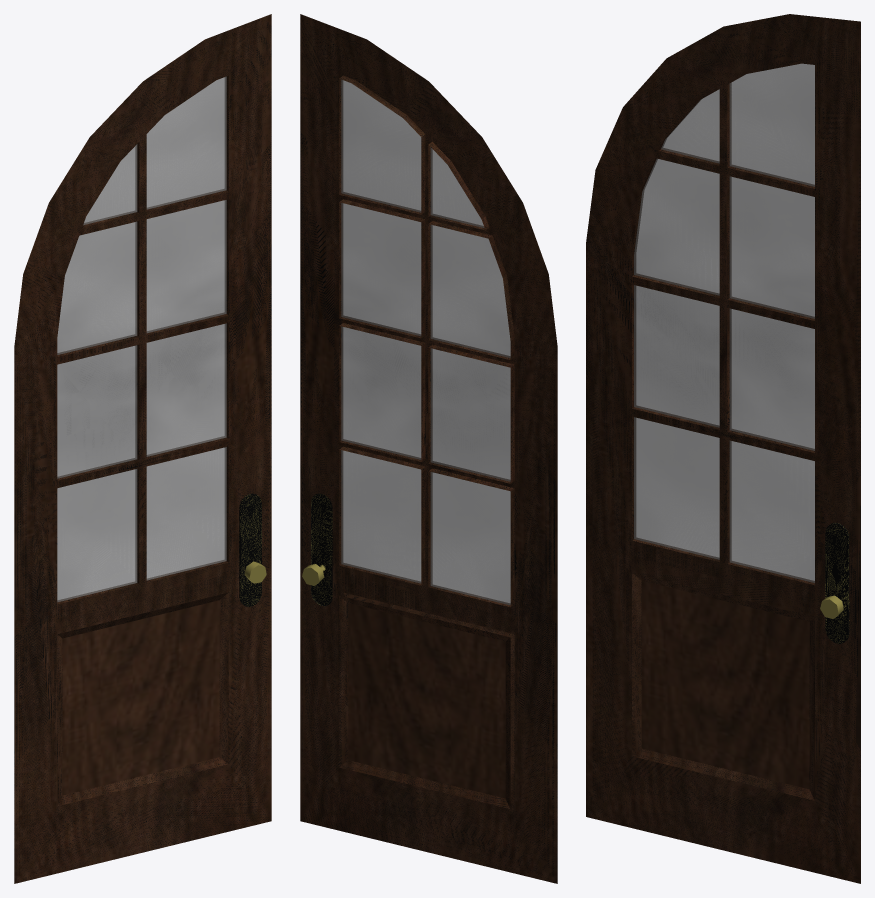
File: door left.fbx
3 views of the same model, side by side, from view 1: azimuth 30°, elevation 25°; view 2: azimuth 150°, elevation 25°; view 3: azimuth 330°, elevation 25° (orthographic). The views are drawn at different scales.
Parts seen in each view (by area): view 1: Model; view 2: Model; view 3: Model.
Boxes of the visible parts, bbox=[...] form: Model: bbox=[14, 14, 271, 883]; Model: bbox=[300, 14, 557, 883]; Model: bbox=[586, 14, 860, 883].
Bounding box in the file's own units: 36 × 108 × 4.65.
